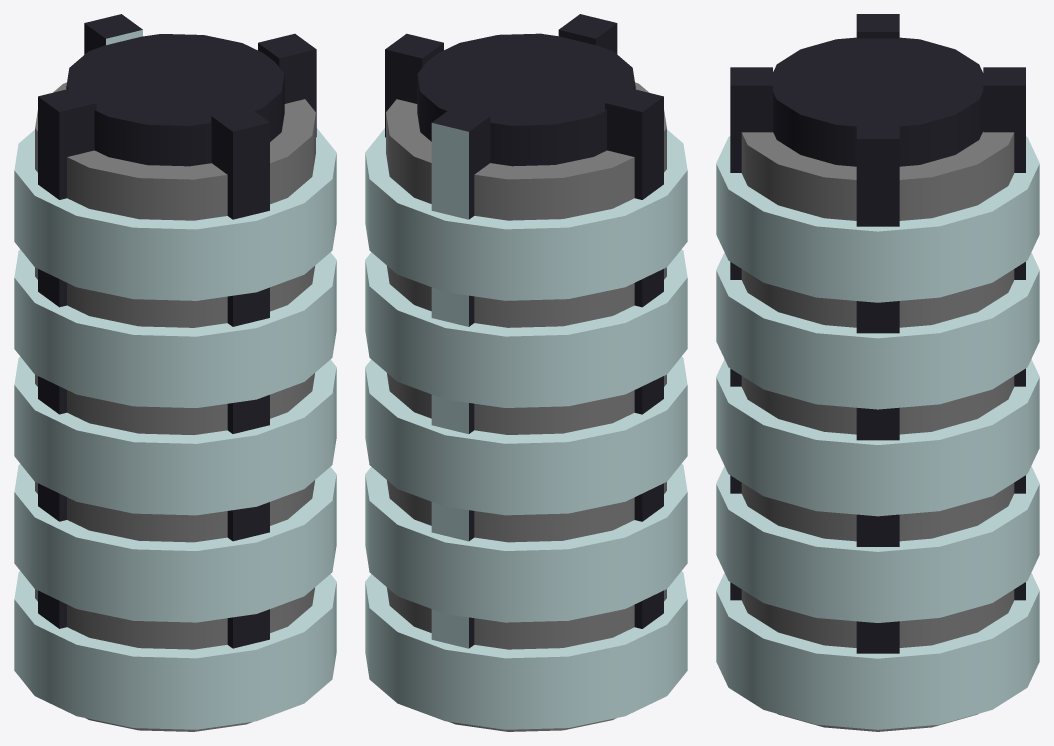
File: Headquarters3.fbx
3 views of the same model, side by side, from view 1: azimuth 30°, elevation 25°; view 2: azimuth 150°, elevation 25°; view 3: azimuth 270°, elevation 25° (orthographic).
Visible parts, largest first — view 1: Cube.002; view 2: Cube.002; view 3: Cube.002.
Part boxes in pixels (x1,y1,x2,y2): Cube.002: (14, 14, 336, 731); Cube.002: (365, 14, 687, 731); Cube.002: (716, 14, 1039, 731).
Size of the model in its own units: 167 by 340 by 167.
